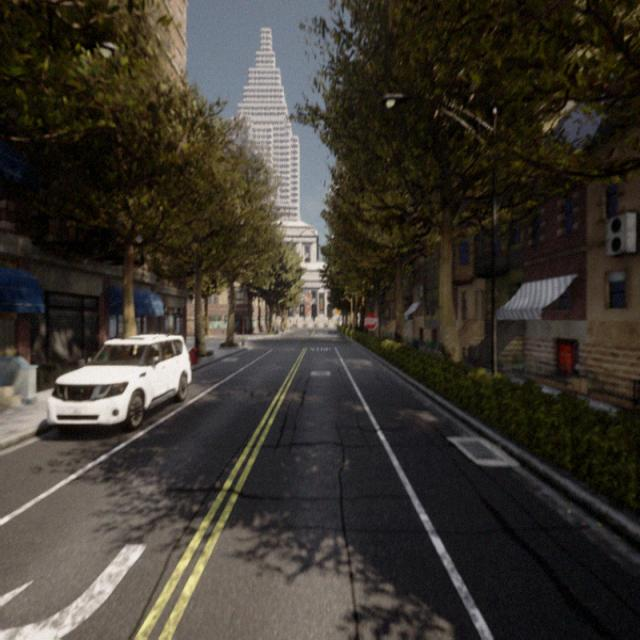stop sign: (362, 309, 379, 333)
